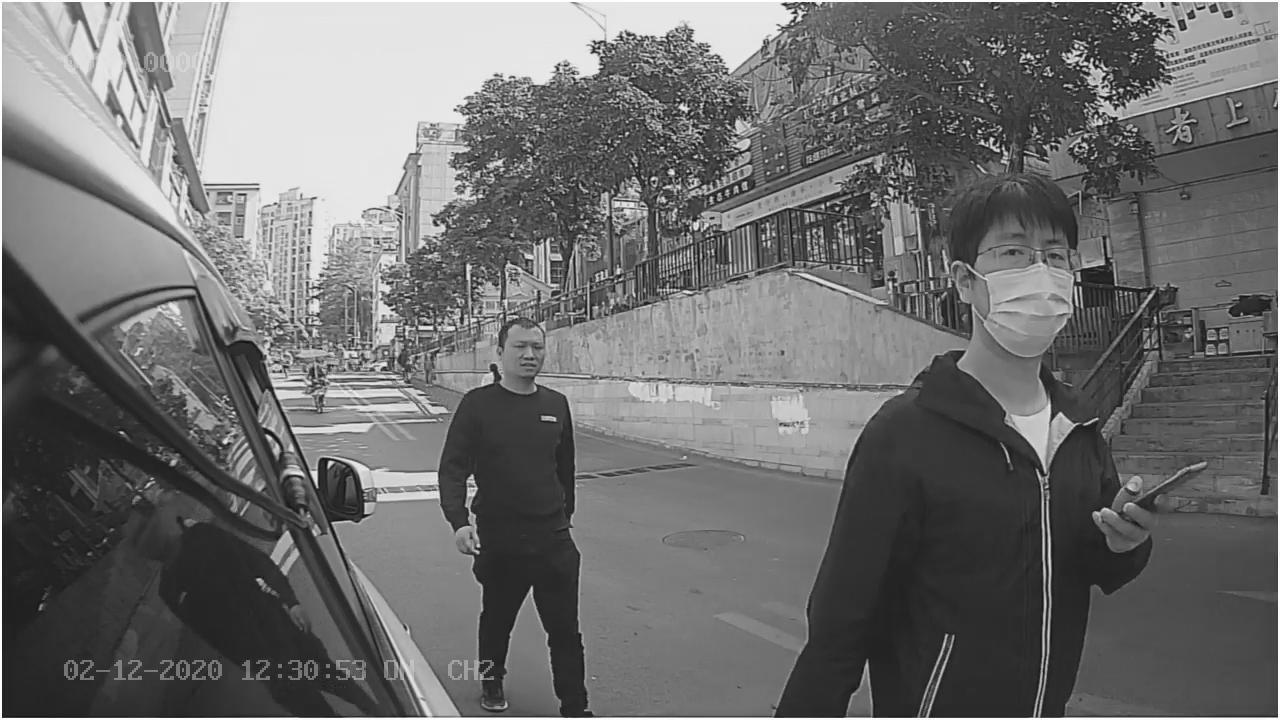person: (817, 165, 1153, 603), (421, 316, 624, 681)
